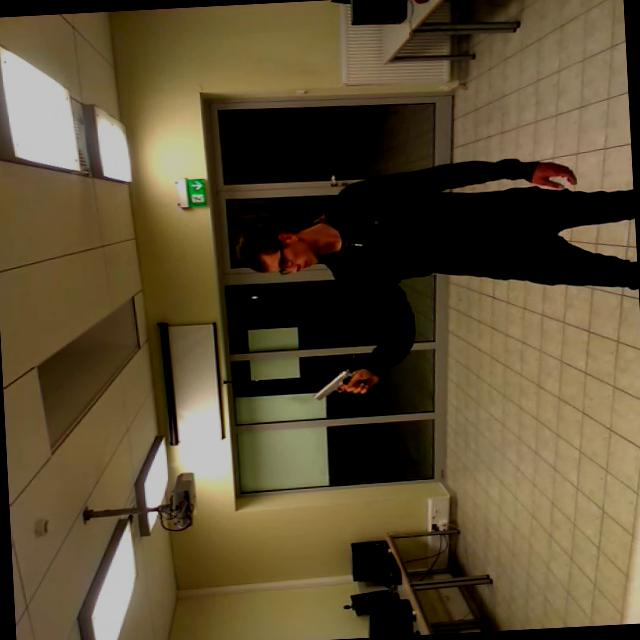handgun: (298, 366, 371, 403)
